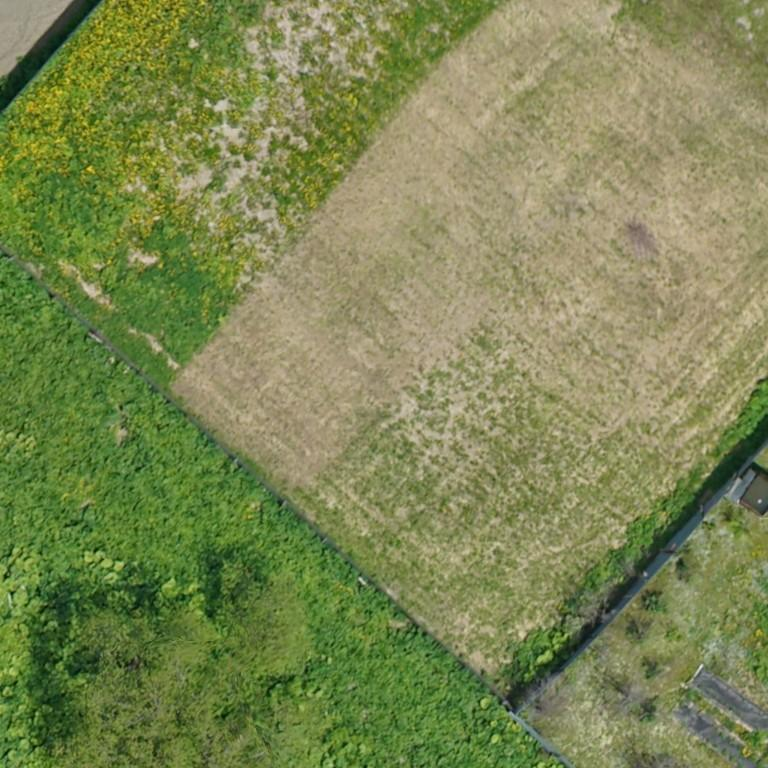hogweed: (0, 248, 529, 767)
